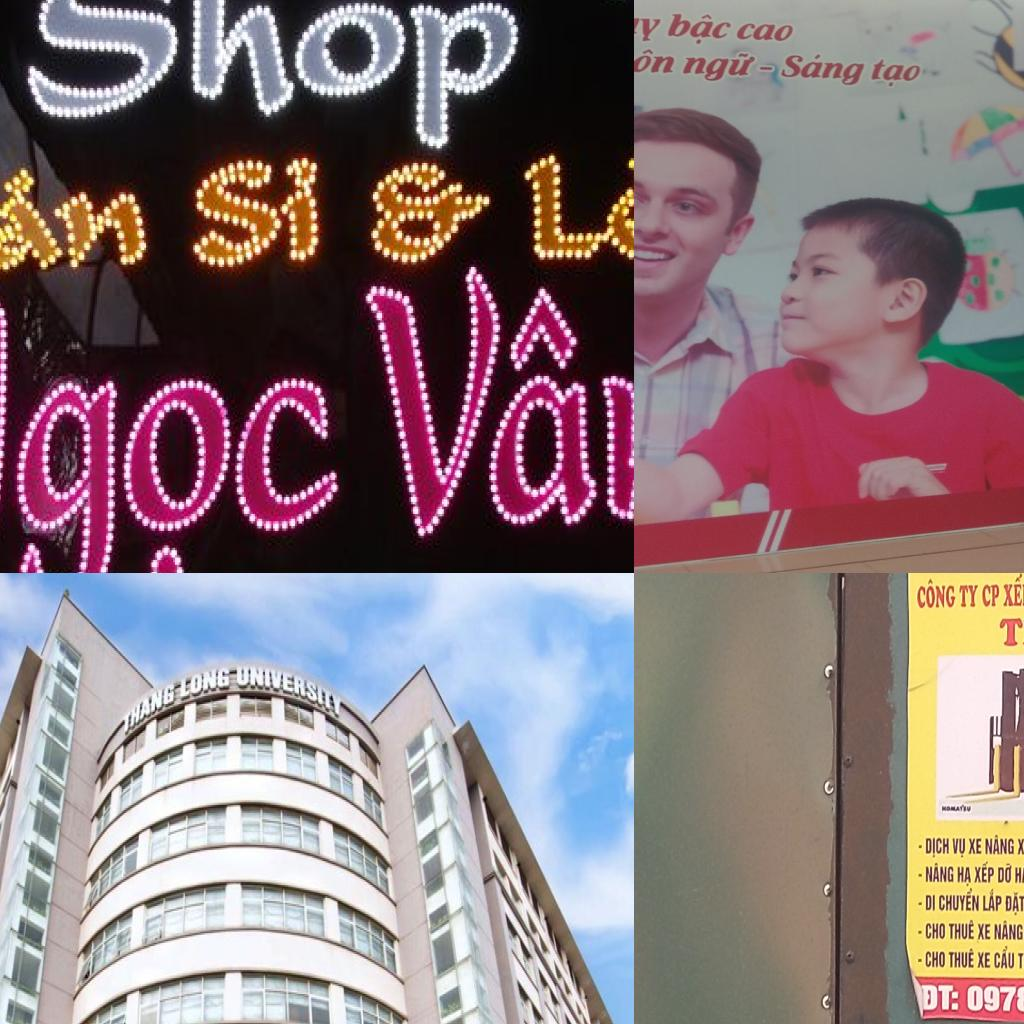text: (0, 293, 342, 573), (358, 269, 634, 540), (26, 0, 530, 148), (0, 165, 147, 281), (188, 160, 320, 274), (519, 148, 634, 266), (367, 163, 493, 265), (775, 49, 870, 89), (676, 50, 764, 87), (123, 680, 176, 739), (661, 10, 737, 48), (179, 664, 232, 704), (865, 57, 926, 90), (732, 18, 798, 45), (634, 44, 679, 80), (916, 576, 956, 613), (920, 980, 961, 1014), (938, 886, 980, 914), (634, 5, 664, 44), (998, 614, 1024, 650), (1001, 573, 1024, 609), (993, 919, 1024, 942), (984, 834, 1015, 856), (958, 580, 980, 609), (925, 862, 954, 884), (948, 918, 975, 941), (925, 835, 951, 858), (948, 947, 974, 969), (994, 945, 1016, 970), (973, 860, 995, 884), (982, 888, 1002, 914), (1004, 890, 1024, 916), (981, 582, 1000, 607), (924, 920, 947, 940), (925, 948, 946, 969), (956, 864, 973, 887), (997, 862, 1013, 884), (941, 803, 972, 814), (952, 836, 966, 859), (968, 835, 982, 857), (976, 950, 991, 970), (977, 922, 992, 940), (924, 893, 936, 913), (1014, 862, 1024, 885), (757, 64, 779, 73), (1017, 946, 1024, 970), (1016, 836, 1024, 856), (917, 842, 923, 850), (917, 900, 923, 907), (917, 929, 923, 936), (917, 872, 923, 878), (917, 958, 923, 963)
